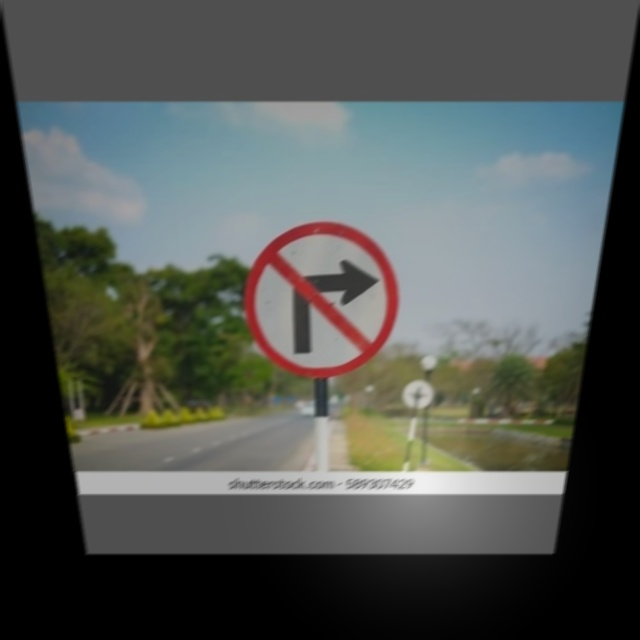Right_Turn_Prohibited: (240, 221, 403, 379)
